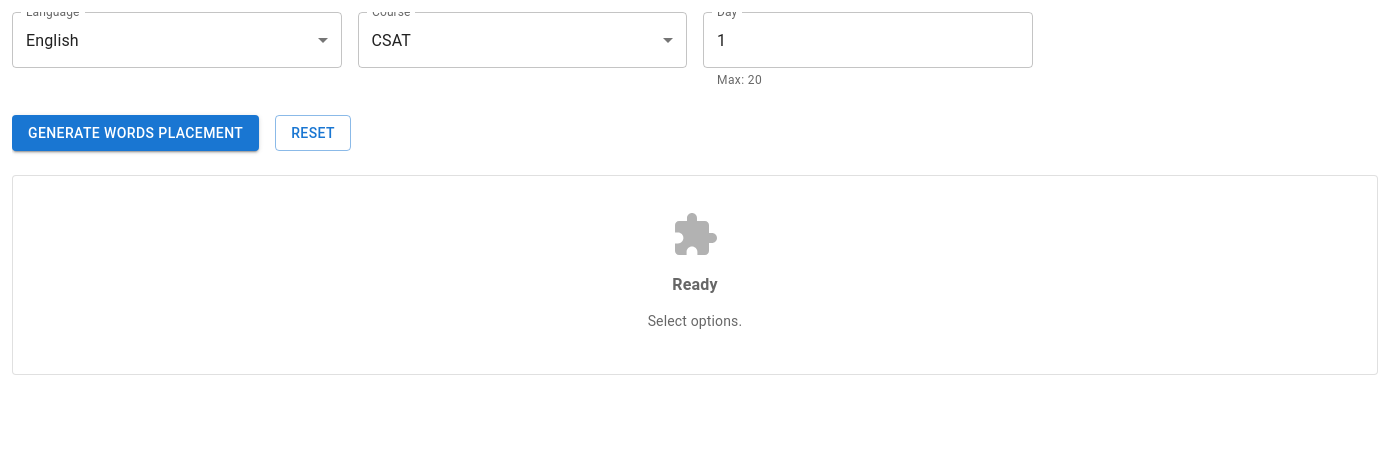
WordsPlacementGeneratorForm › renders targetExample instead of raw Japanese source example
Click the button "Generate Words Placement" at (136, 133), box [12,115,259,151]
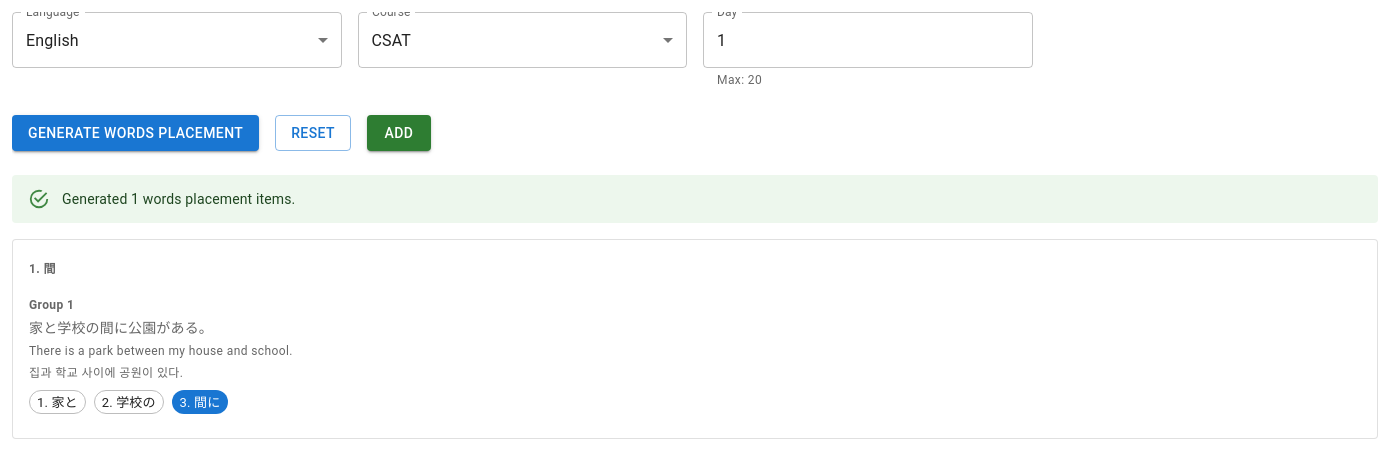
Now the text "家と学校の間に公園がある。" is shown, box [29,320,213,336]
Now the text "There is a park between my house and school." is shown, box [29,344,293,358]
Now the text "집과 학교 사이에 공원이 있다." is shown, box [29,366,183,380]
